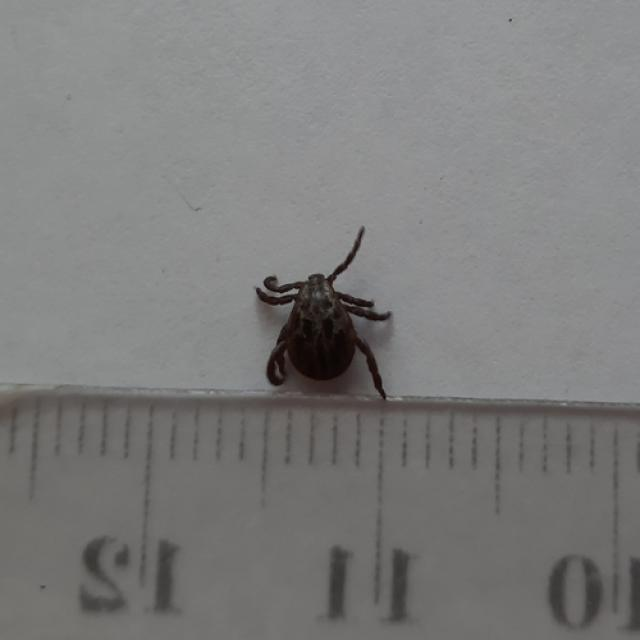Dermacentor Reticulatus-M: (253, 225, 392, 401)
